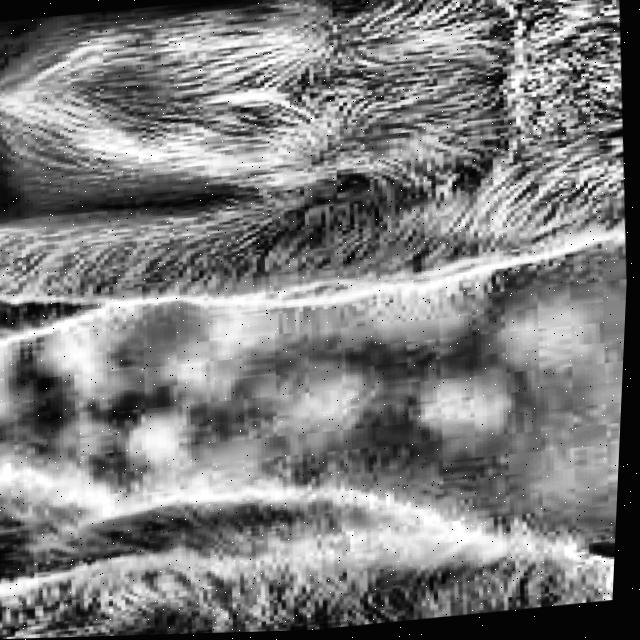dog: (0, 0, 640, 457), (0, 393, 622, 640)
